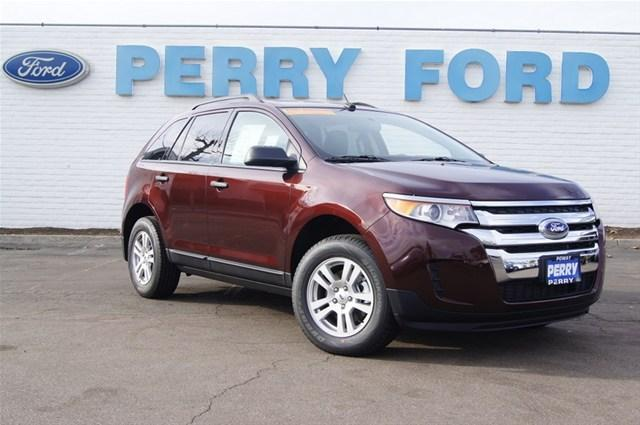car: (101, 80, 618, 359)
